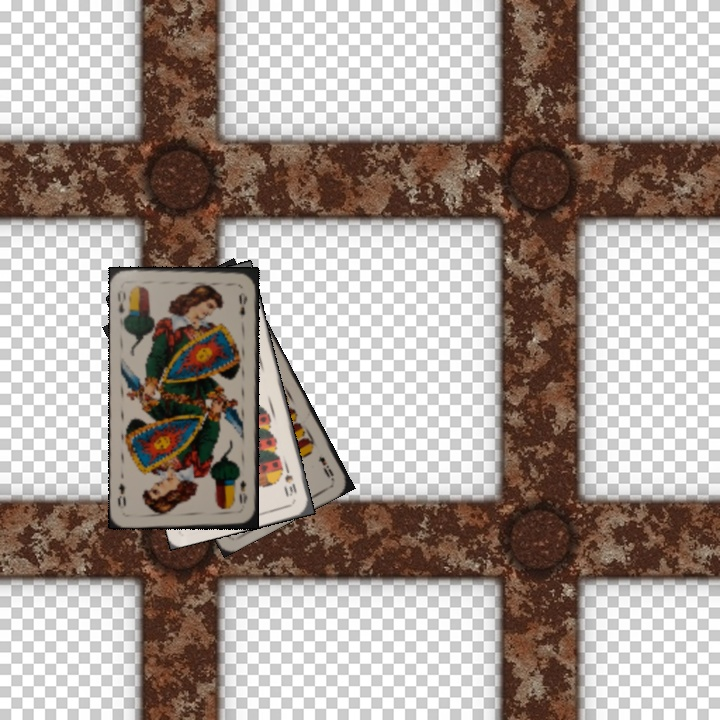E9: (314, 452, 336, 482)
EO: (235, 476, 250, 507), (113, 286, 128, 315)
S10: (281, 461, 299, 499)
